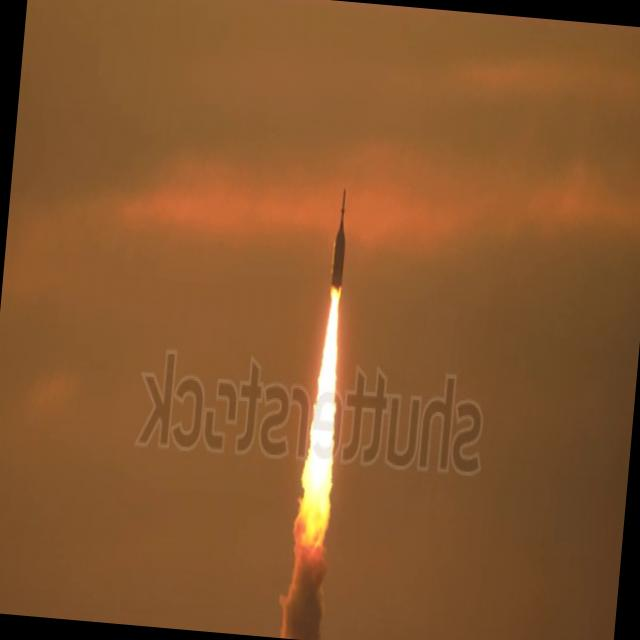rocket: (297, 178, 359, 630)
